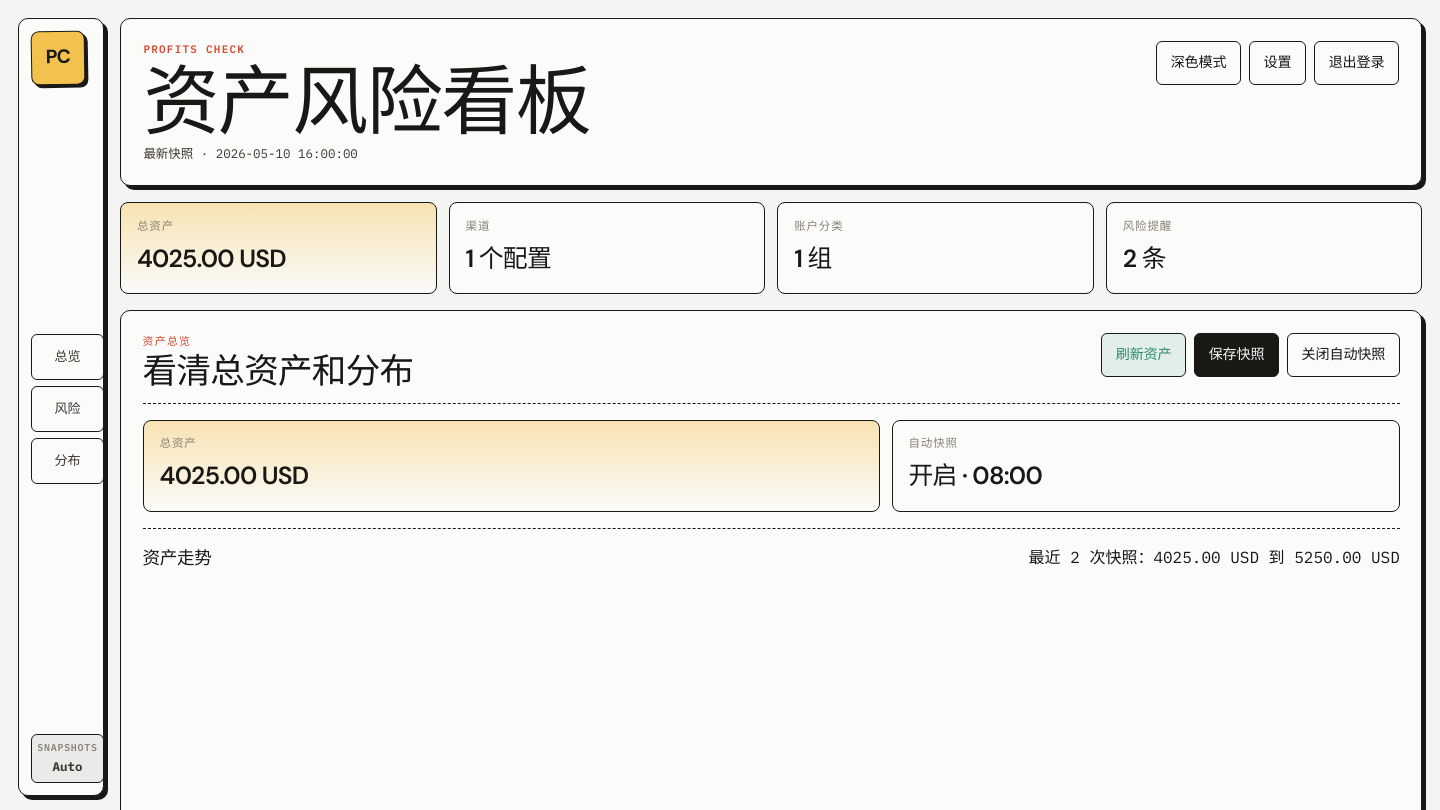
Test case: renders dashboard data and latest snapshot detail
Expected: the text "4025.00 USD" next to "1 个配置" is shown, x1=137 y1=242 x2=286 y2=274
Expected: the text "总资产" next to "渠道" is shown, x1=137 y1=218 x2=174 y2=233
Click the button "分布". click: (68, 461)
box: x1=31 y1=438 x2=104 y2=484
(page scrolled)
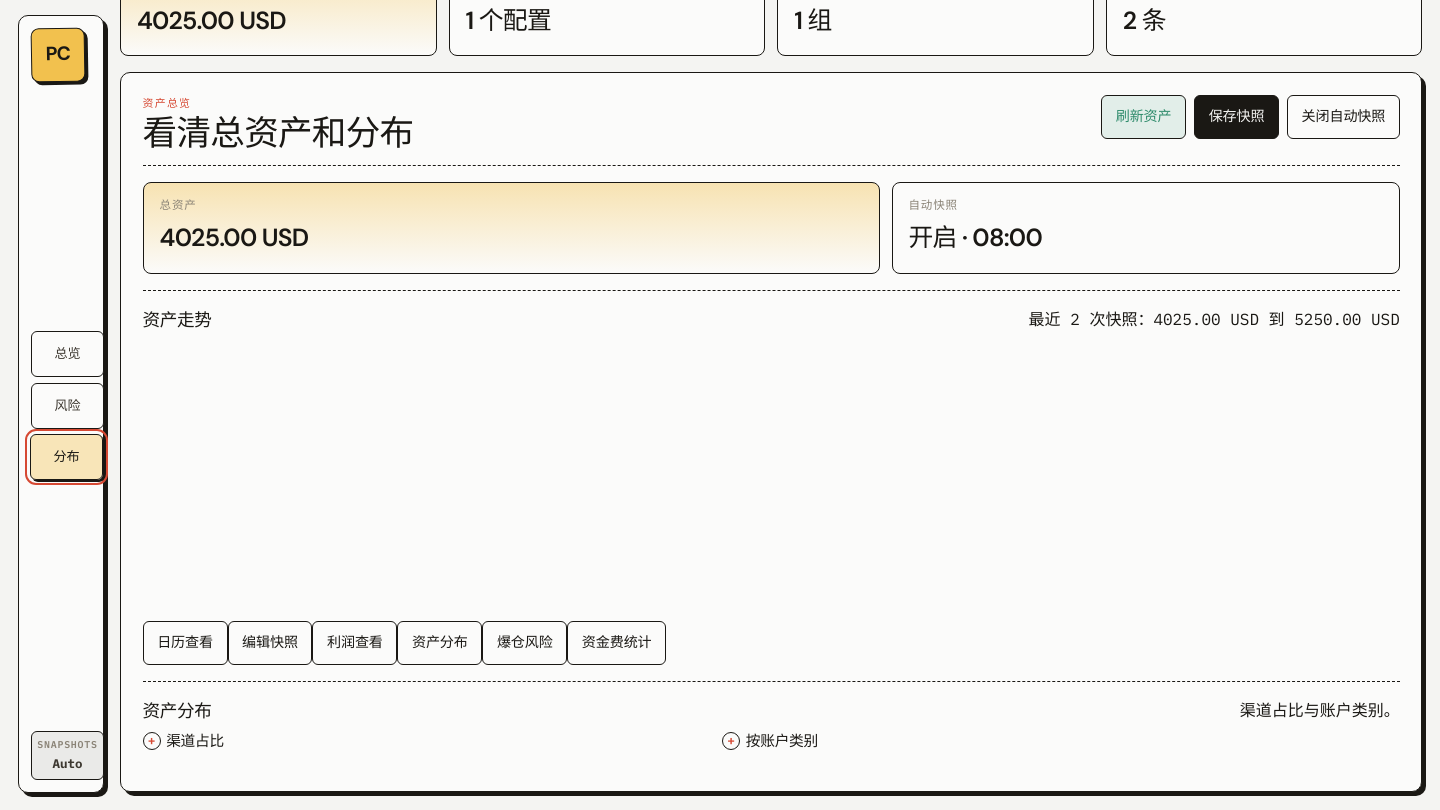
Result: the button "分布" is expanded at x1=30 y1=434 x2=103 y2=480
Result: the heading "资产分布" is shown at x1=143 y1=698 x2=212 y2=724
Result: the text "渠道占比与账户类别。" is shown at x1=1240 y1=698 x2=1400 y2=722
